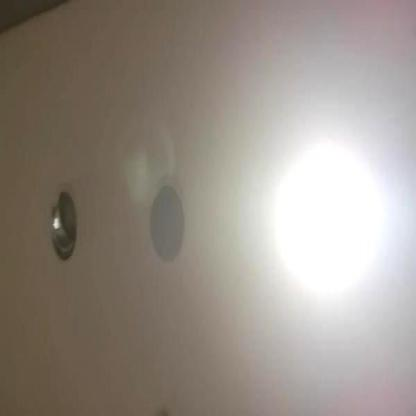light_off: (40, 170, 92, 275)
